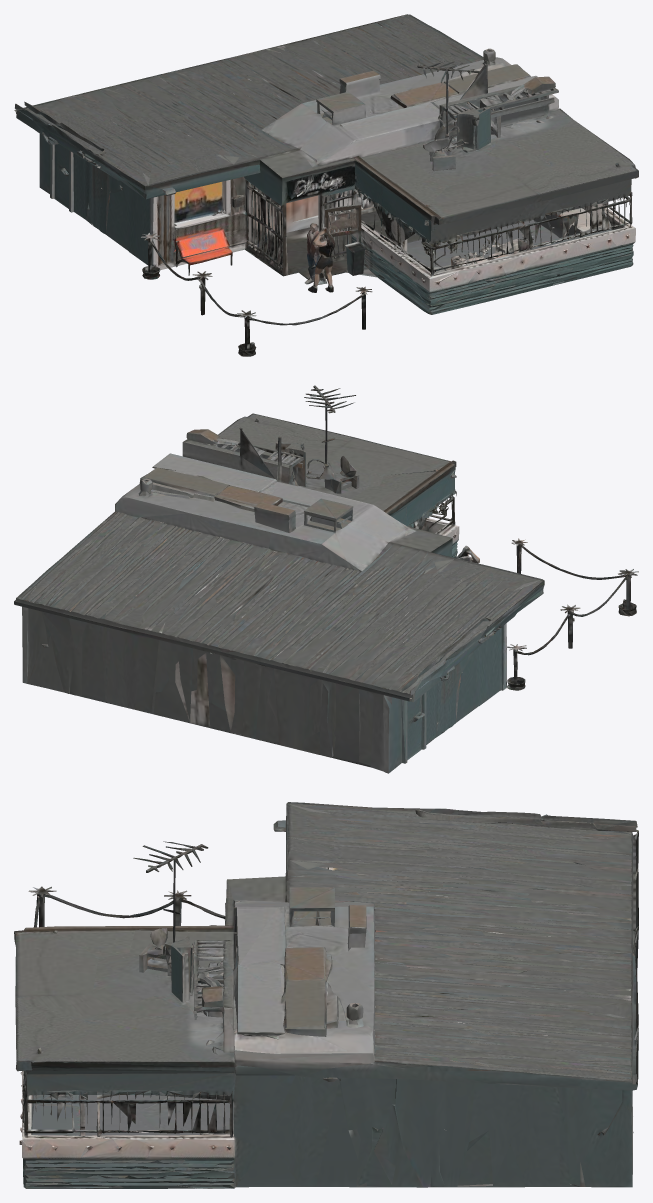
Rendered from charlies.glb.
3 renders of one model, top to bottom at view 1: azimuth 30°, elevation 25°; view 2: azimuth 150°, elevation 25°; view 3: azimuth 270°, elevation 25°, orthographic. The views are drawn at different scales.
Visible parts, largest first — view 1: output_unwrapped; view 2: output_unwrapped; view 3: output_unwrapped.
Part boxes in pixels (x1,y1,x2,y2): output_unwrapped: (14, 14, 638, 356); output_unwrapped: (14, 385, 638, 773); output_unwrapped: (14, 802, 638, 1188).
Bounding box in the file's own units: 1.86 × 0.8388 × 1.9.
1 material, 1 textured.
